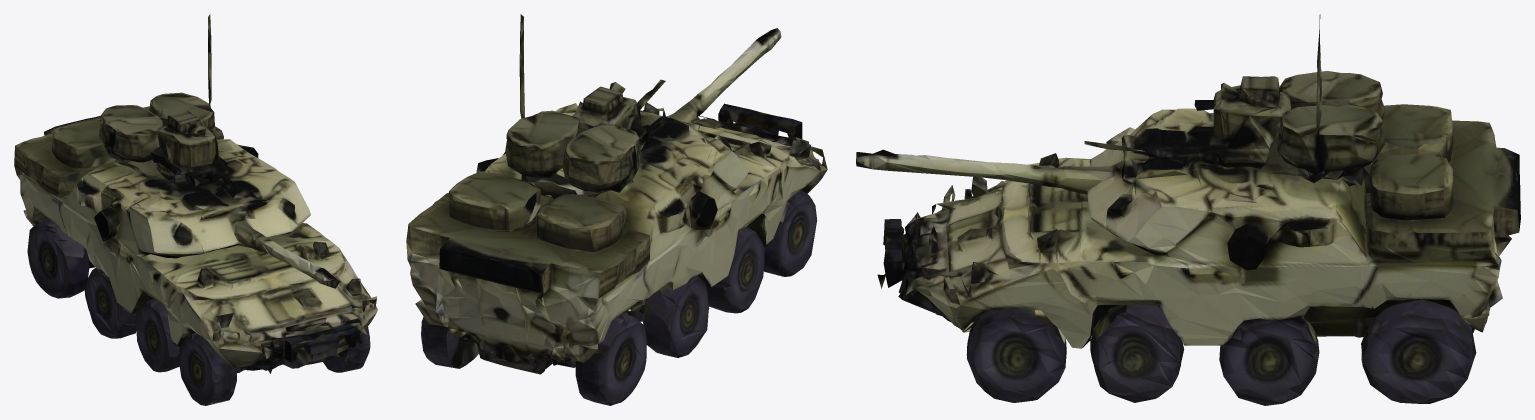
Rendered from veh_zbl08.glb.
The picture shows the model from 3 angles, left to right: view 1: azimuth 30°, elevation 25°; view 2: azimuth 150°, elevation 25°; view 3: azimuth 270°, elevation 25°; orthographic projection. The views are drawn at different scales.
Visible parts, largest first — view 1: veh_zbl08_tex; view 2: veh_zbl08_tex; view 3: veh_zbl08_tex.
Boxes of the visible parts, x1=… form: veh_zbl08_tex: x1=14, y1=14, x2=377, y2=405; veh_zbl08_tex: x1=406, y1=14, x2=827, y2=405; veh_zbl08_tex: x1=856, y1=14, x2=1520, y2=405.
Bounding box in the file's own units: 3.3 × 4.99 × 8.
Materials: 1 (1 with a texture image).
